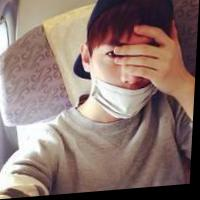WRONG: (92, 30, 163, 123)
